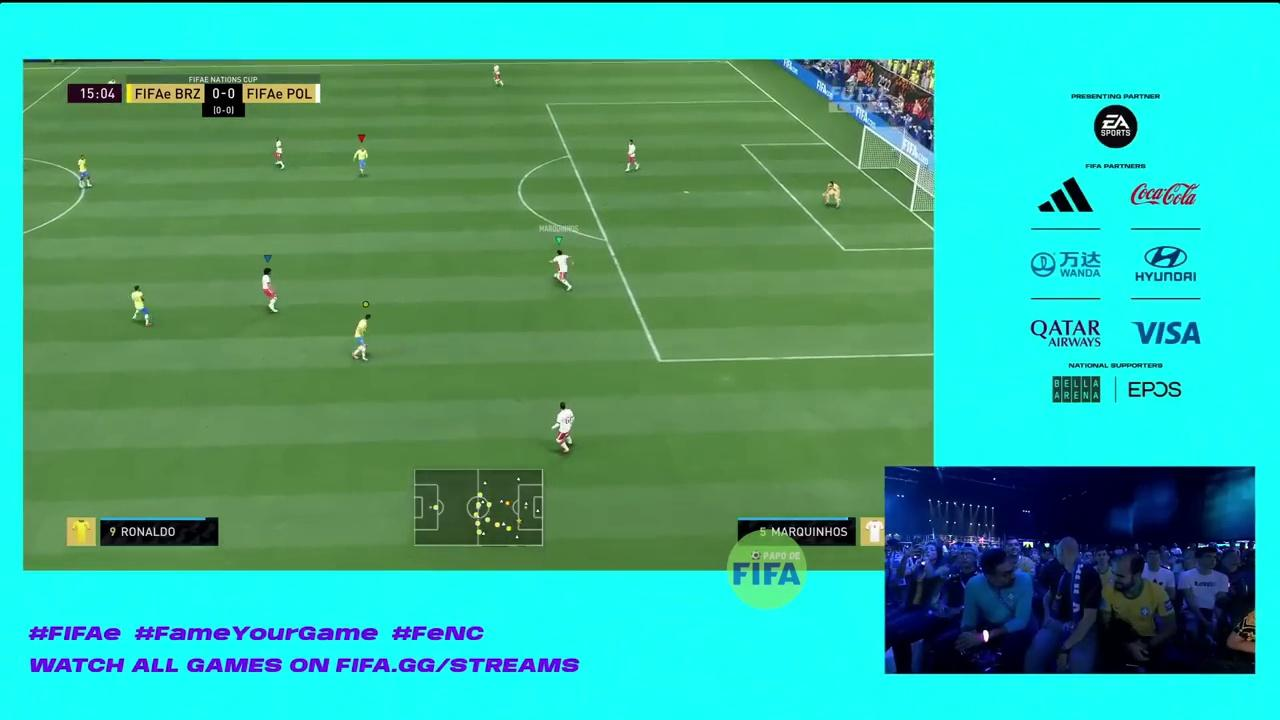scoreboard: (127, 81, 327, 104)
timestamp: (64, 81, 124, 107)
